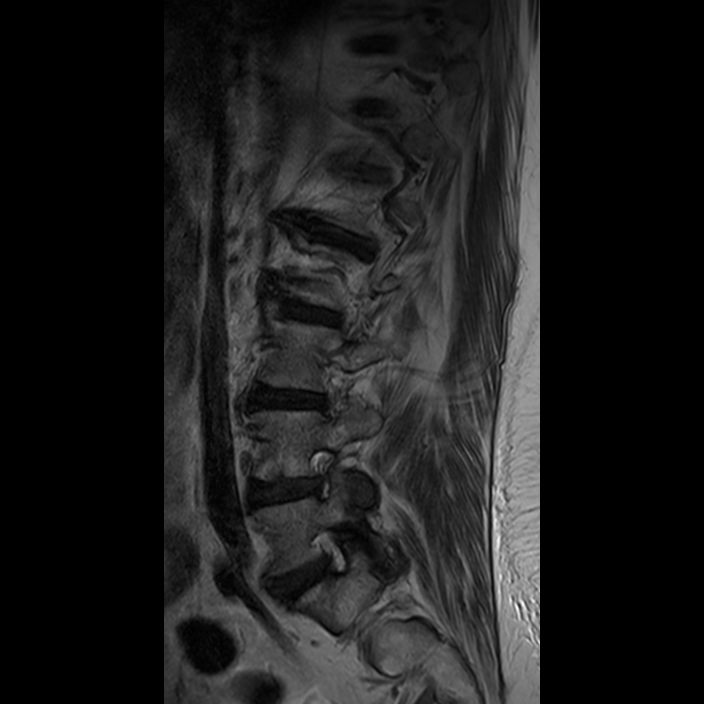RFS2: (294, 437, 352, 512)
